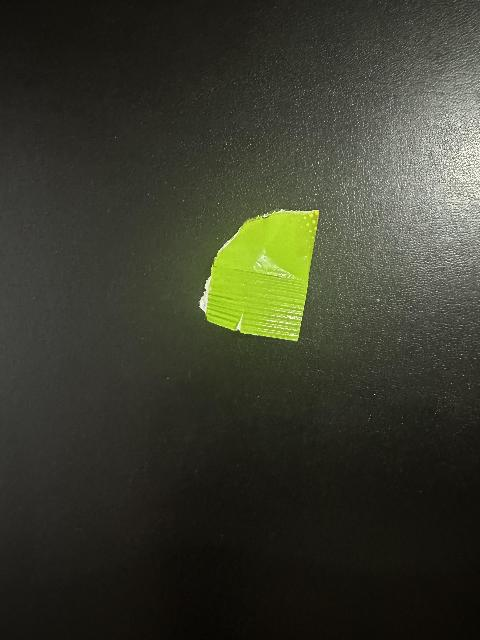Plastik: (200, 208, 327, 338)
